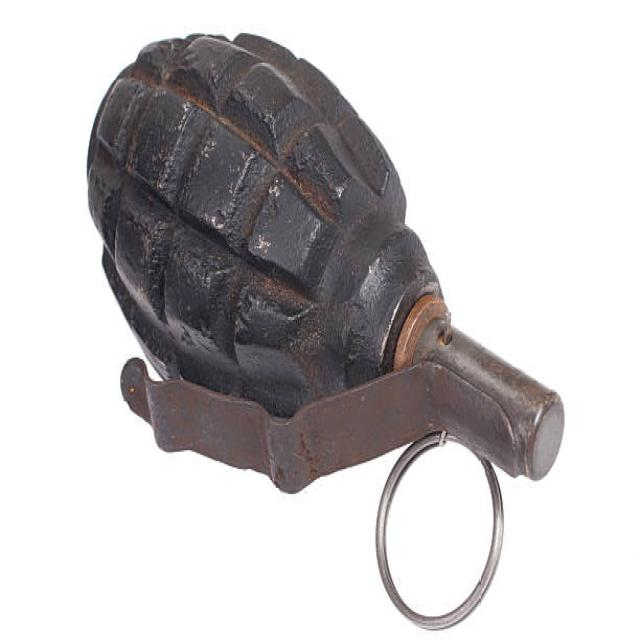grenade: (87, 19, 570, 636)
